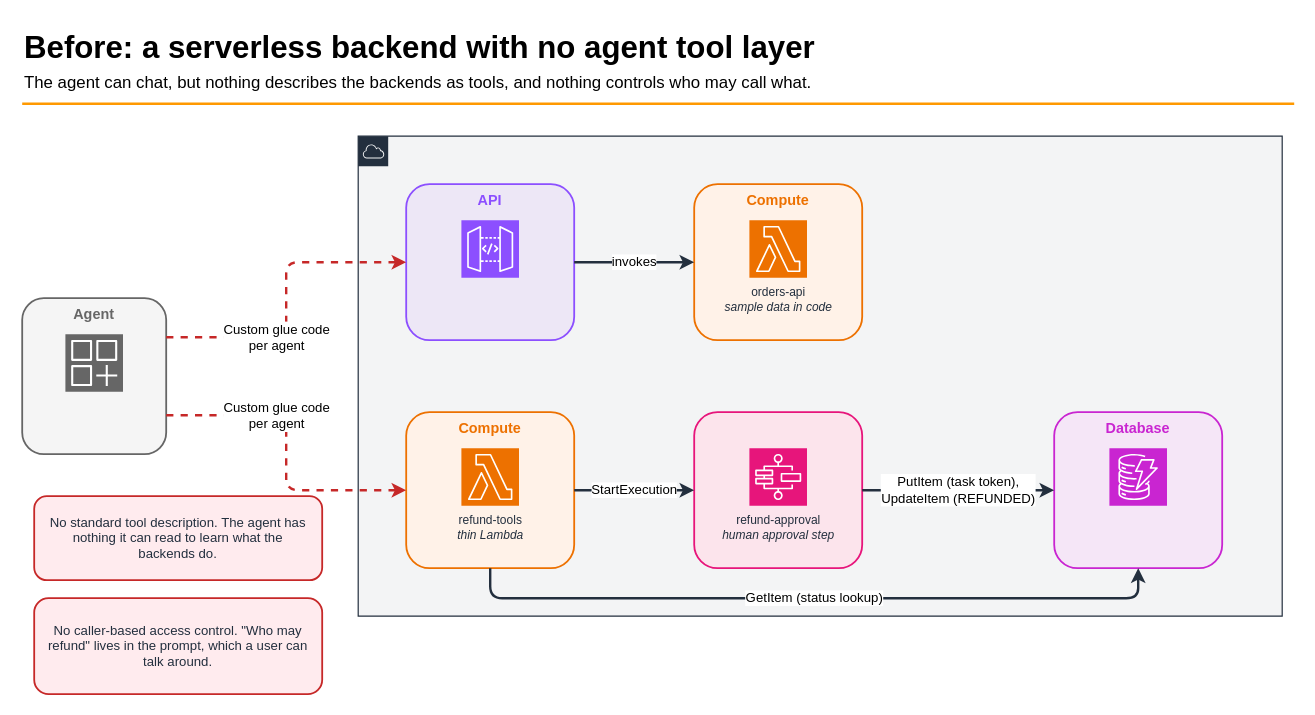
This 1315x715 diagram has some shape labels left out. The box of each missing label's shape, as (x1, y1, x2, y2) in pixels:
Amazon API Gateway Orders API, API key required: (460, 219, 519, 278)
AWS Cloud: (357, 135, 1282, 616)
refund-approvals refund status, task token: (1108, 447, 1167, 506)
Strands agent chat only, no tools: (64, 333, 123, 392)
Workflow: (693, 411, 863, 569)
